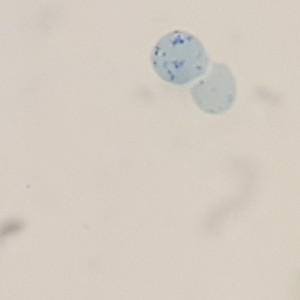aggregate reticulocyte: (149, 28, 211, 87)
punctate reticulocyte: (188, 61, 239, 116)
